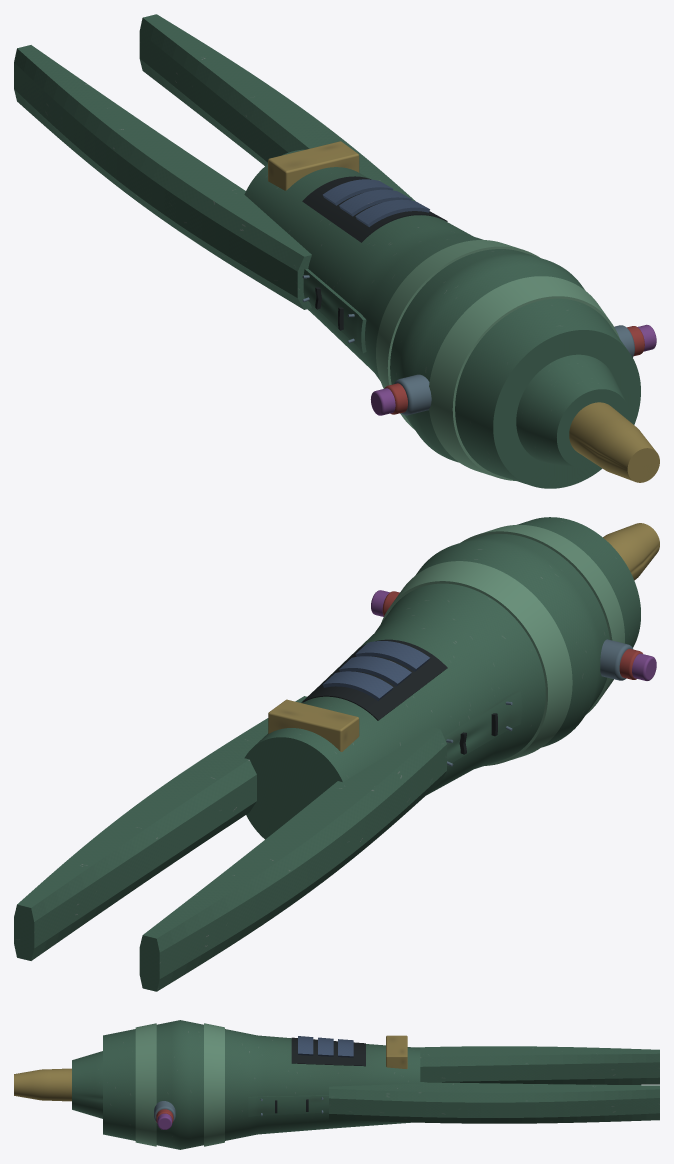
3 renders of one model, top to bottom at view 1: azimuth 30°, elevation 25°; view 2: azimuth 150°, elevation 25°; view 3: azimuth 270°, elevation 25°, orthographic. The views are drawn at different scales.
Parts seen in each view (by area): view 1: Rigellian Maxi-det green core, Rigellian Maxi-det rear prong 0, Rigellian Maxi-det rear prong 1, Rigellian Maxi-det pale band 0, Rigellian Maxi-det forward neck, Rigellian Maxi-det gold forward fitting, Rigellian Maxi-det pale band 1, Rigellian Maxi-det fork base gold fitting, Rigellian Maxi-det centre recess surround, Rigellian Maxi-det service cover 1, Rigellian Maxi-det side fitting base 0, Rigellian Maxi-det blue centre insert 0 (+2 smaller); view 2: Rigellian Maxi-det green core, Rigellian Maxi-det rear prong 0, Rigellian Maxi-det rear prong 1, Rigellian Maxi-det pale band 1, Rigellian Maxi-det pale band 0, Rigellian Maxi-det centre recess surround, Rigellian Maxi-det fork base gold fitting, Rigellian Maxi-det service cover 1, Rigellian Maxi-det gold forward fitting, Rigellian Maxi-det blue centre insert 0, Rigellian Maxi-det blue centre insert 1, Rigellian Maxi-det blue centre insert 2 (+1 smaller); view 3: Rigellian Maxi-det green core, Rigellian Maxi-det rear prong 1, Rigellian Maxi-det rear prong 0, Rigellian Maxi-det pale band 0, Rigellian Maxi-det pale band 1, Rigellian Maxi-det forward neck, Rigellian Maxi-det gold forward fitting, Rigellian Maxi-det service cover 0, Rigellian Maxi-det centre recess surround, Rigellian Maxi-det fork base gold fitting, Rigellian Maxi-det blue centre insert 0, Rigellian Maxi-det blue centre insert 1 (+3 smaller).
Part boxes in pixels (left/top/right/bottom): Rigellian Maxi-det green core: left=244, top=149, right=640, bottom=488; Rigellian Maxi-det rear prong 0: left=14, top=45, right=311, bottom=309; Rigellian Maxi-det rear prong 1: left=139, top=14, right=415, bottom=201; Rigellian Maxi-det pale band 0: left=429, top=276, right=619, bottom=480; Rigellian Maxi-det forward neck: left=516, top=354, right=630, bottom=468; Rigellian Maxi-det gold forward fitting: left=569, top=402, right=659, bottom=482; Rigellian Maxi-det pale band 1: left=376, top=240, right=539, bottom=429; Rigellian Maxi-det fork base gold fitting: left=268, top=141, right=359, bottom=190; Rigellian Maxi-det centre recess surround: left=302, top=176, right=447, bottom=242; Rigellian Maxi-det service cover 1: left=303, top=269, right=366, bottom=353; Rigellian Maxi-det side fitting base 0: left=394, top=374, right=431, bottom=415; Rigellian Maxi-det blue centre insert 0: left=355, top=199, right=429, bottom=226; Rigellian Maxi-det green core: left=244, top=517, right=640, bottom=839; Rigellian Maxi-det rear prong 0: left=139, top=727, right=446, bottom=991; Rigellian Maxi-det rear prong 1: left=14, top=696, right=306, bottom=960; Rigellian Maxi-det pale band 1: left=381, top=561, right=572, bottom=765; Rigellian Maxi-det pale band 0: left=460, top=525, right=624, bottom=714; Rigellian Maxi-det centre recess surround: left=302, top=639, right=447, bottom=720; Rigellian Maxi-det fork base gold fitting: left=268, top=699, right=359, bottom=751; Rigellian Maxi-det service cover 1: left=444, top=690, right=522, bottom=765; Rigellian Maxi-det gold forward fitting: left=603, top=523, right=659, bottom=580; Rigellian Maxi-det blue centre insert 0: left=355, top=641, right=429, bottom=671; Rigellian Maxi-det blue centre insert 1: left=339, top=656, right=411, bottom=686; Rigellian Maxi-det blue centre insert 2: left=322, top=671, right=393, bottom=700; Rigellian Maxi-det green core: left=103, top=1020, right=420, bottom=1149; Rigellian Maxi-det rear prong 1: left=329, top=1082, right=659, bottom=1123; Rigellian Maxi-det rear prong 0: left=415, top=1046, right=659, bottom=1084; Rigellian Maxi-det pale band 0: left=135, top=1023, right=156, bottom=1146; Rigellian Maxi-det pale band 1: left=204, top=1023, right=224, bottom=1146; Rigellian Maxi-det forward neck: left=72, top=1051, right=102, bottom=1118; Rigellian Maxi-det gold forward fitting: left=14, top=1068, right=71, bottom=1101; Rigellian Maxi-det service cover 0: left=248, top=1095, right=328, bottom=1116; Rigellian Maxi-det centre recess surround: left=291, top=1037, right=365, bottom=1066; Rigellian Maxi-det fork base gold fitting: left=386, top=1035, right=407, bottom=1068; Rigellian Maxi-det blue centre insert 0: left=298, top=1036, right=313, bottom=1055; Rigellian Maxi-det blue centre insert 1: left=318, top=1037, right=333, bottom=1056.
Size of the model in its own units: 0.595 by 0.42 by 2.09.
Materials: 8 (3 with a texture image).
